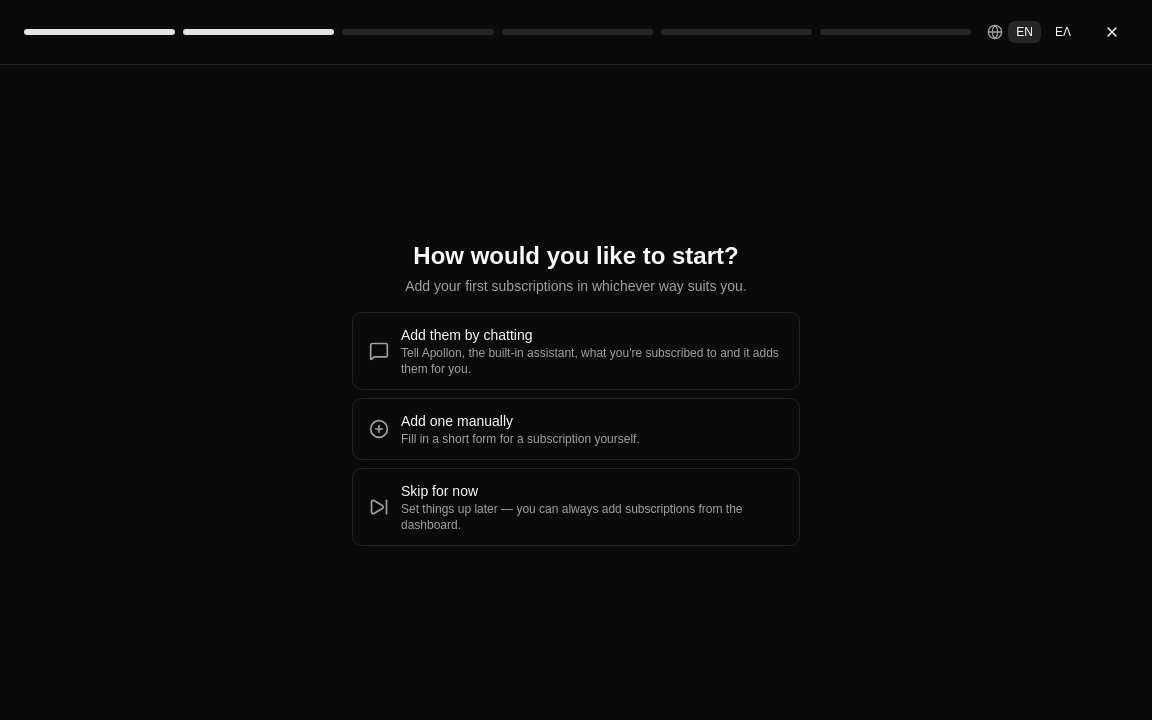
Test case: OnboardingFlow › does not fall back into the assistant when skipping after a method was already chosen
Expected: the heading "How would you like to start?" is shown, [413,242,739,268]
Click the text "Skip for now".
click(440, 490)  # box [401,482,478,498]
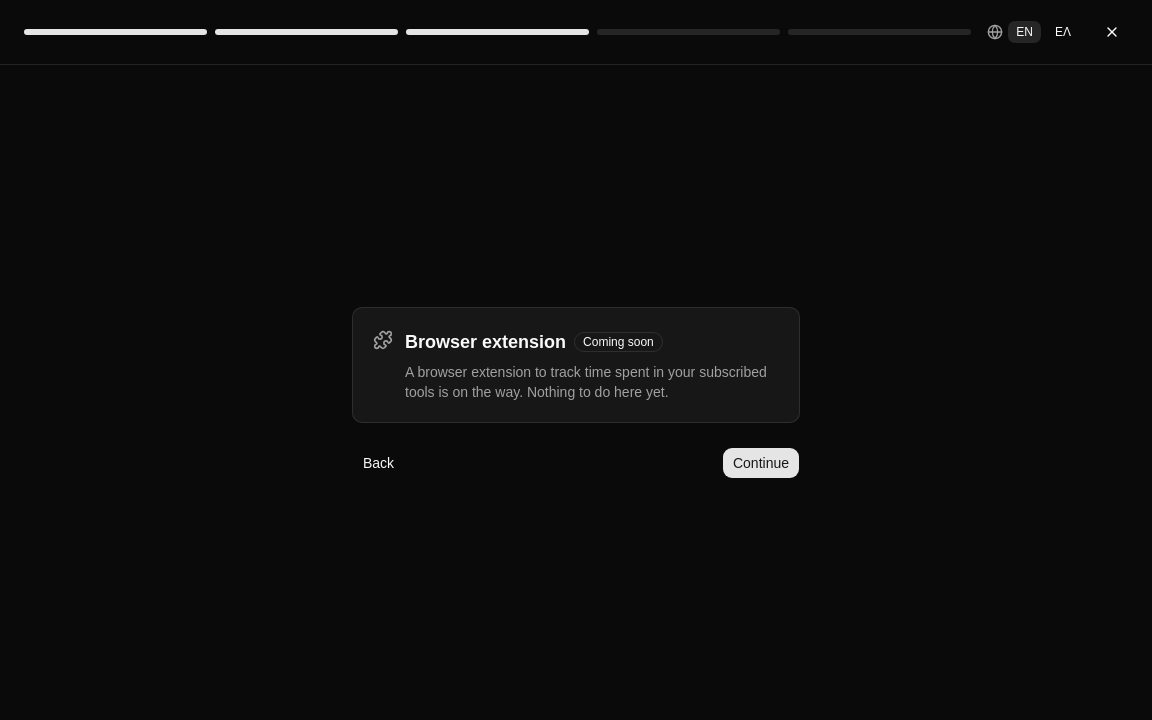
Expected: the heading "Browser extension" is shown, [405,328,566,356]
